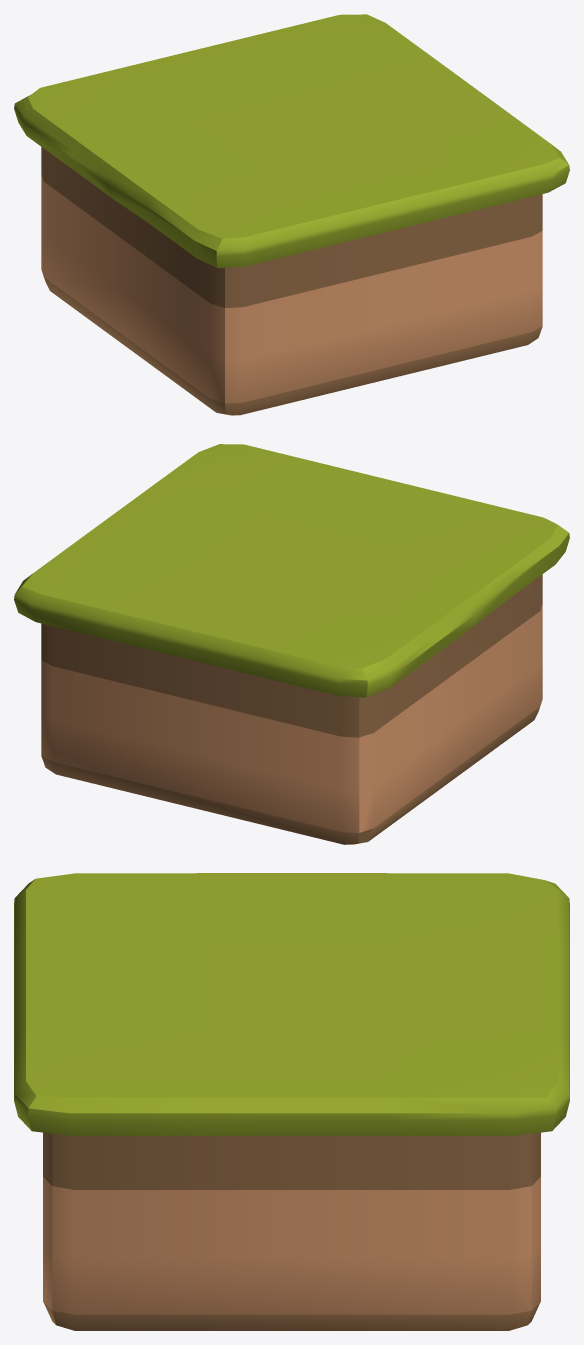
Rendered from platform_edited_normal 1.fbx.
3 views of the same model, one above another, from view 1: azimuth 30°, elevation 25°; view 2: azimuth 150°, elevation 25°; view 3: azimuth 270°, elevation 25° (orthographic). The views are drawn at different scales.
Parts seen in each view (by area): view 1: Cube_Grass_Single.005; view 2: Cube_Grass_Single.005; view 3: Cube_Grass_Single.005.
Boxes of the visible parts, x1,y1,x2,y2 form: Cube_Grass_Single.005: [14, 14, 569, 415]; Cube_Grass_Single.005: [14, 444, 569, 844]; Cube_Grass_Single.005: [14, 873, 569, 1330].
Size of the model in its own units: 2.23 by 1.12 by 2.23.
